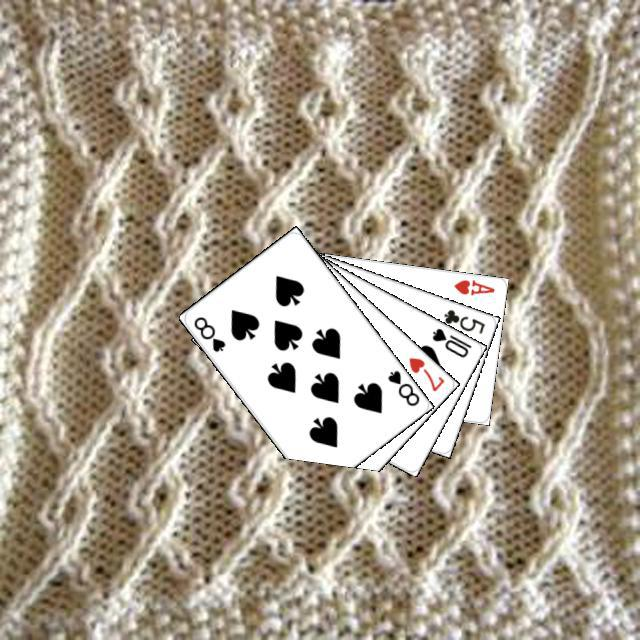10s: (427, 323, 473, 359)
5c: (439, 304, 487, 335)
7h: (404, 352, 446, 393)
8s: (383, 365, 421, 408), (189, 311, 227, 354)
Ah: (449, 275, 496, 297)
